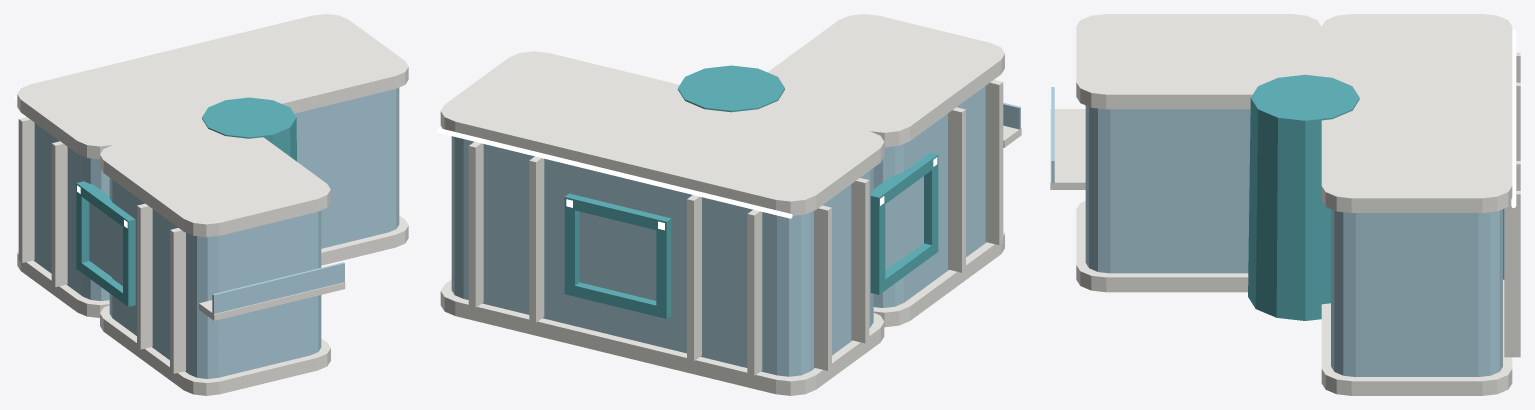
File: arcology-towers-and-skyways-corner-tower-section-7f4ec928__23236.glb
3 views of the same model, side by side, from view 1: azimuth 30°, elevation 25°; view 2: azimuth 150°, elevation 25°; view 3: azimuth 270°, elevation 25° (orthographic). The views are drawn at different scales.
Parts seen in each view (by area): view 1: corner-tower-section; view 2: corner-tower-section; view 3: corner-tower-section.
Boxes of the visible parts, left/top/right/bottom form: corner-tower-section: left=14, top=14, right=408, bottom=395; corner-tower-section: left=437, top=14, right=1021, bottom=395; corner-tower-section: left=1050, top=14, right=1520, bottom=395.
Size of the model in its own units: 16.3 by 8.06 by 17.25.
